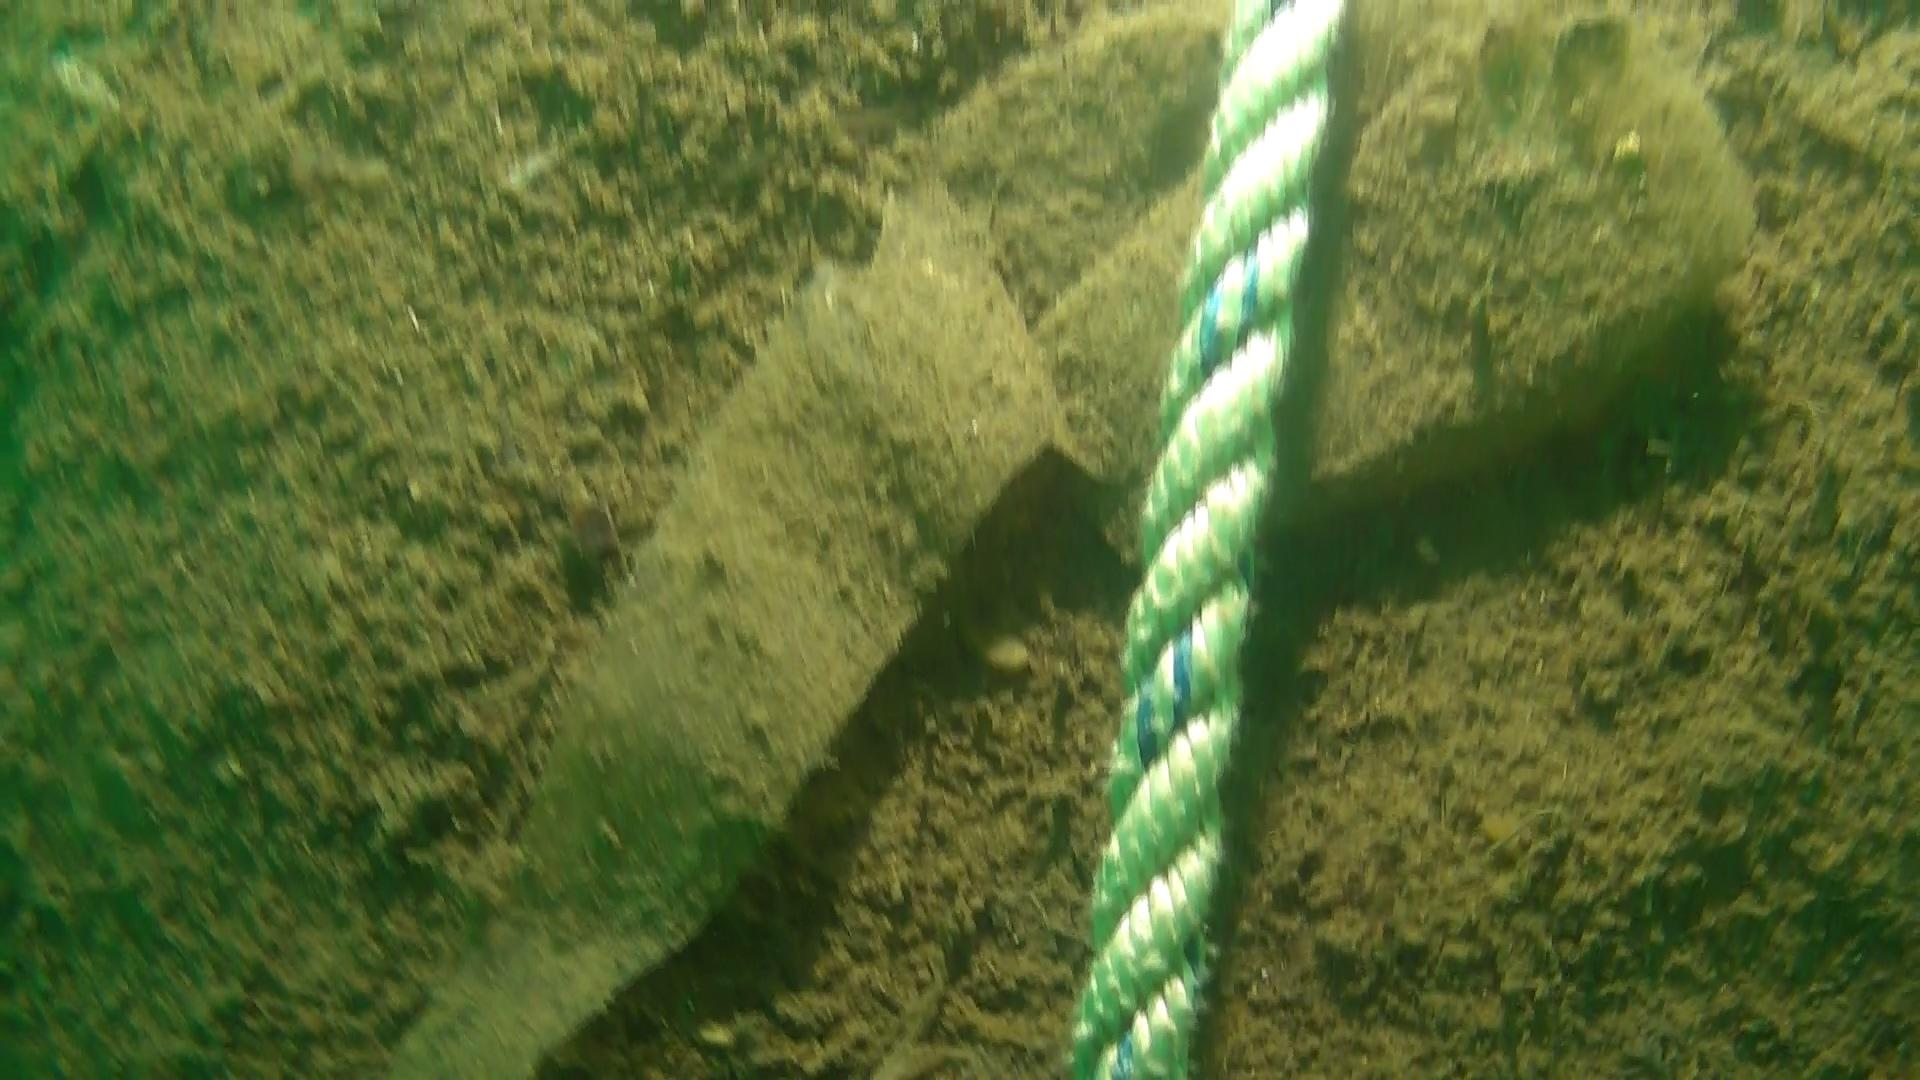rope: (1062, 0, 1349, 1080)
